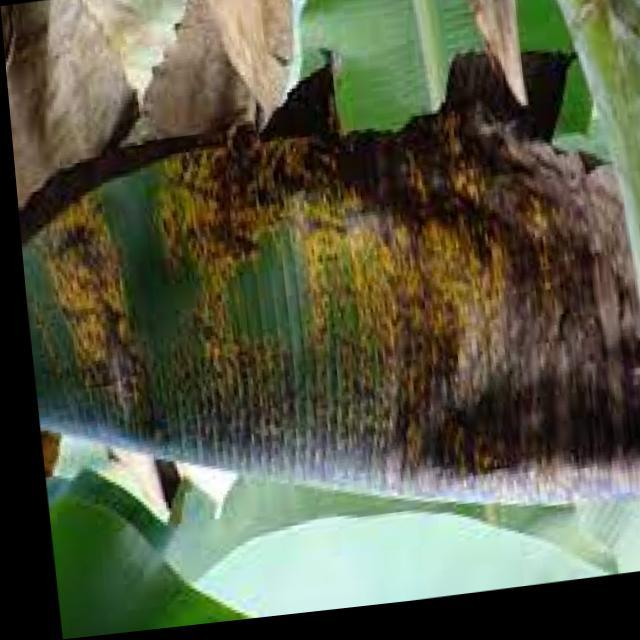Early_rust: (0, 83, 640, 521)
